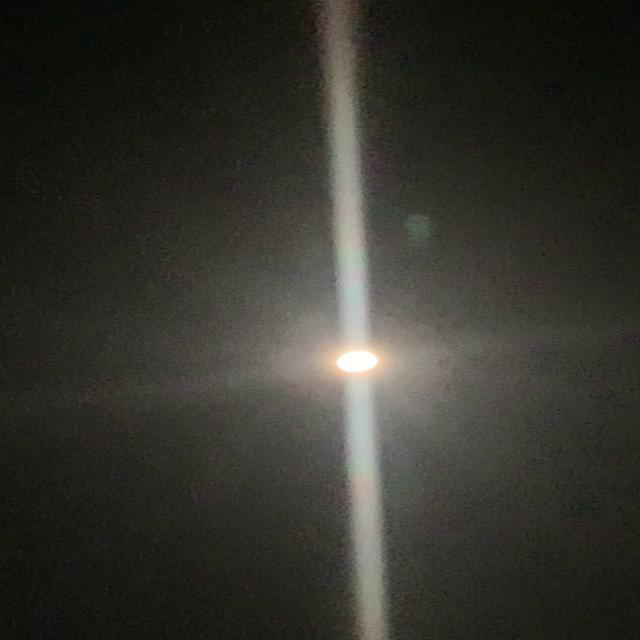moon: (324, 344, 386, 380)
